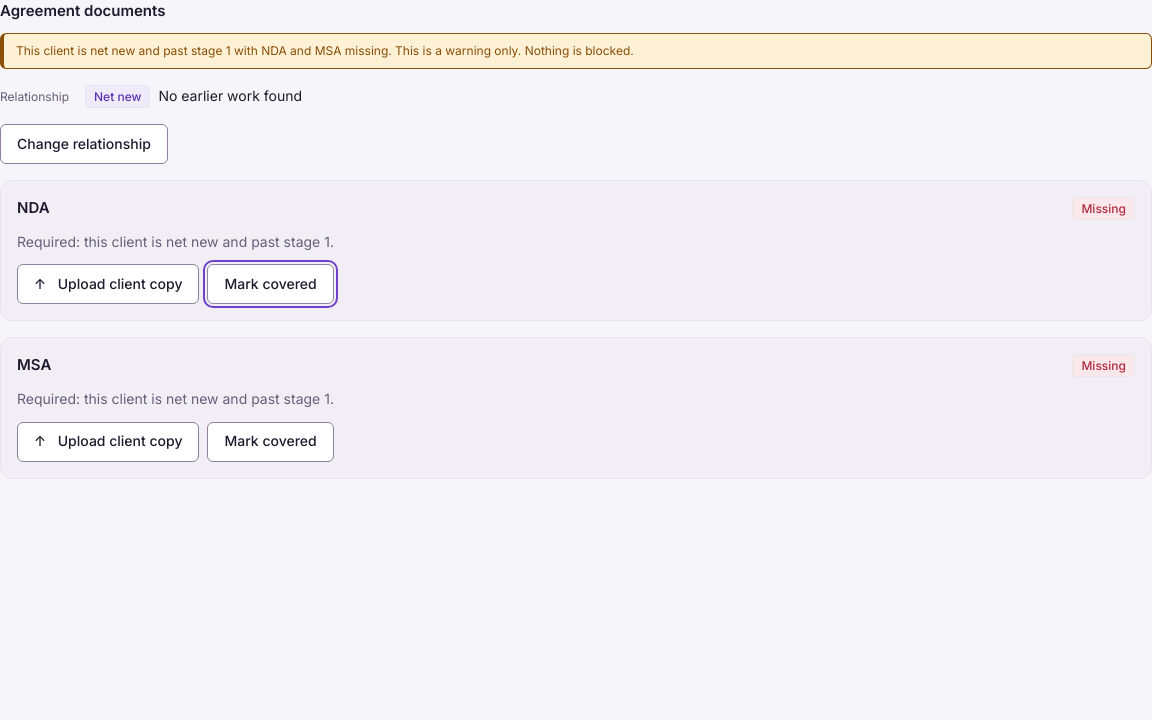
Test: dialog behaviour › in the Pipeline section the cards are inline and a form opens in a drawer over them
Expected: the heading "Agreement documents" is shown, x1=0 y1=1 x2=166 y2=20
Expected: the element "NDA" is shown, x1=0 y1=180 x2=1151 y2=321
Click the 1st button "Mark covered": (271, 284) x1=208 y1=264 x2=334 y2=304
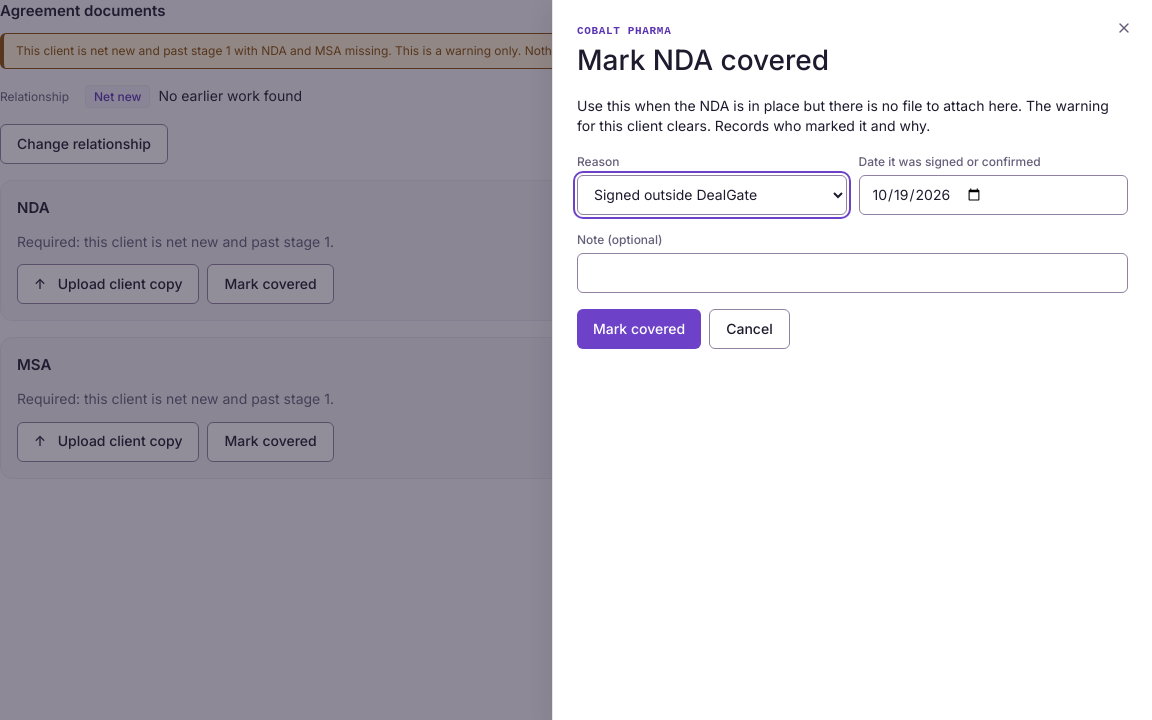
Result: the heading "Mark NDA covered" is shown at x1=577 y1=43 x2=829 y2=77
Click the button "Cancel": (749, 329) x1=709 y1=309 x2=790 y2=349
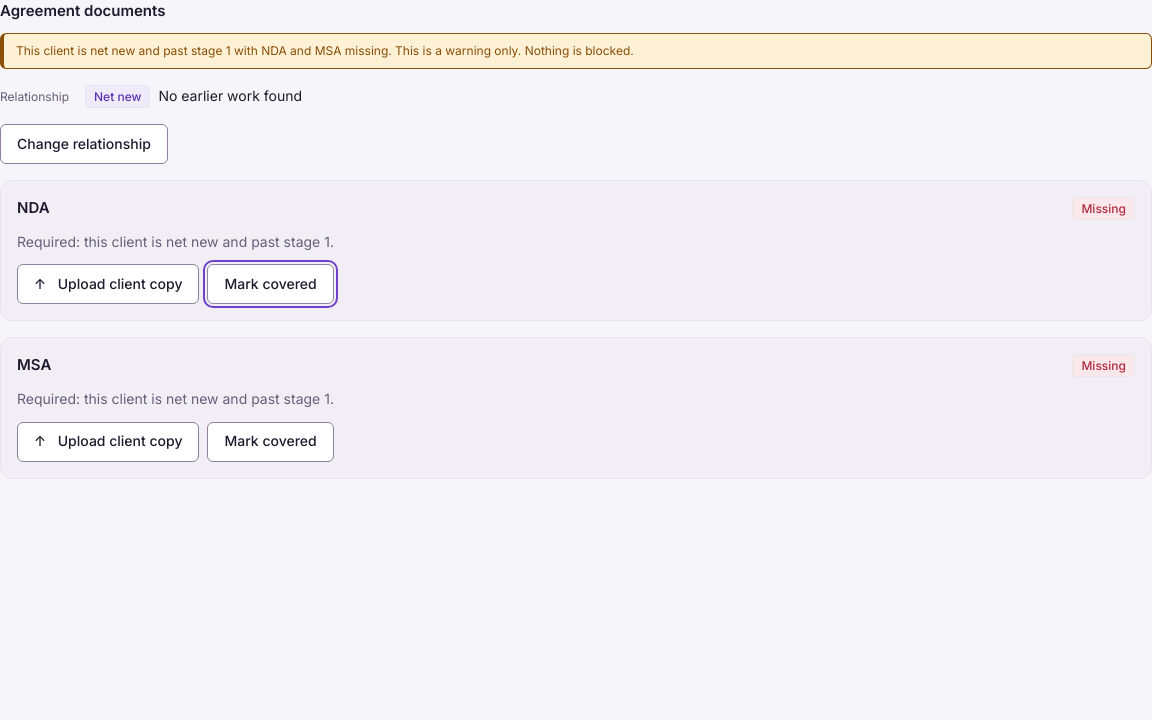
Result: the dialog is gone
